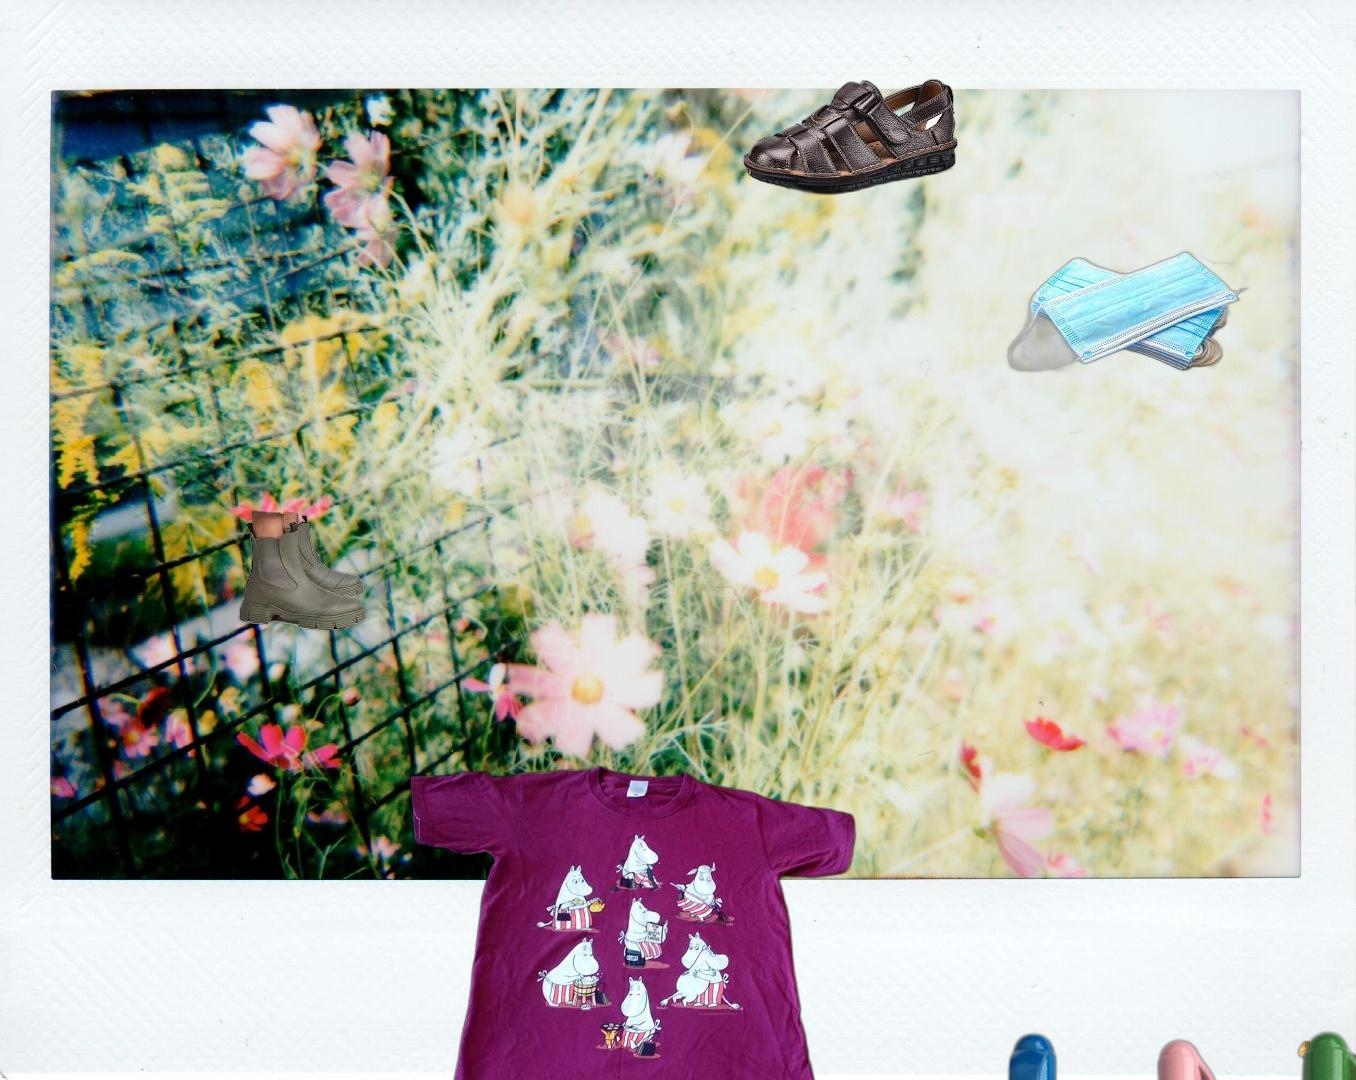clothes: (399, 760, 863, 1080)
glass: (1294, 1036, 1356, 1080)
penholder: (831, 990, 1356, 1080)
shoes: (741, 76, 961, 198), (235, 507, 369, 631)
trash: (1004, 249, 1252, 382)
